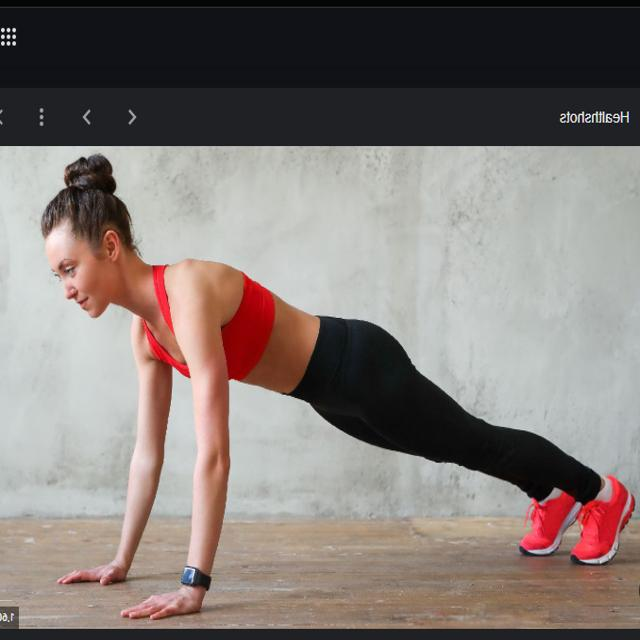Plank_Pose: (34, 147, 634, 631)
